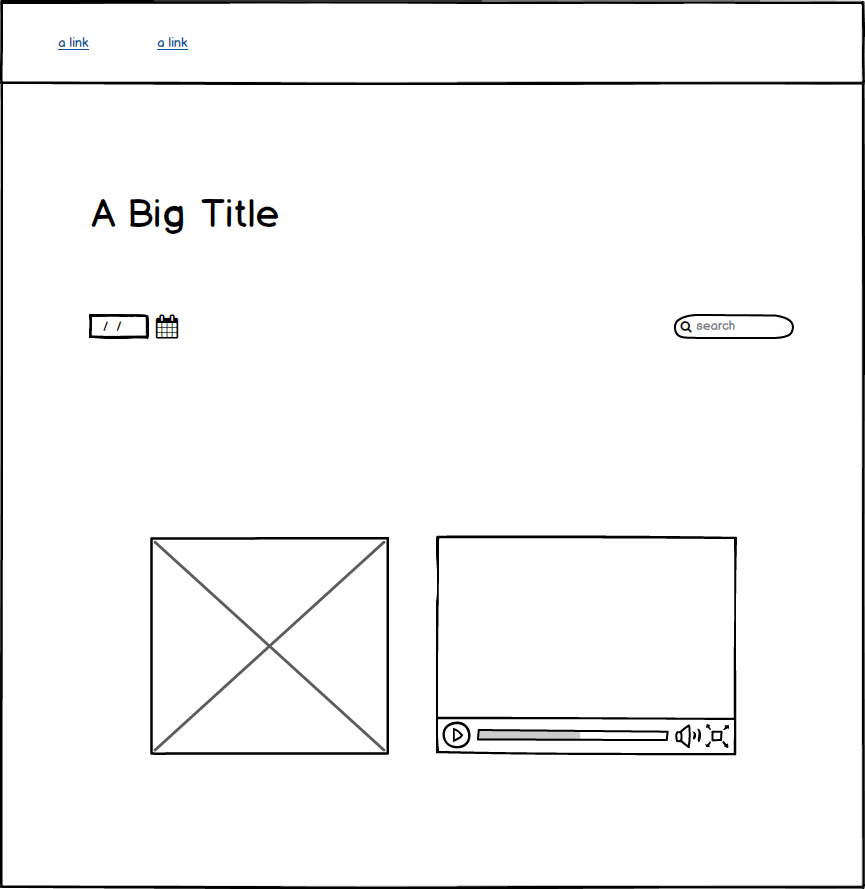date_picker: (74, 300, 187, 355)
h1: (72, 182, 294, 240)
image: (143, 527, 403, 763)
navlink: (145, 29, 213, 63), (51, 29, 105, 58)
search: (667, 302, 803, 347)
video: (432, 528, 748, 761)
